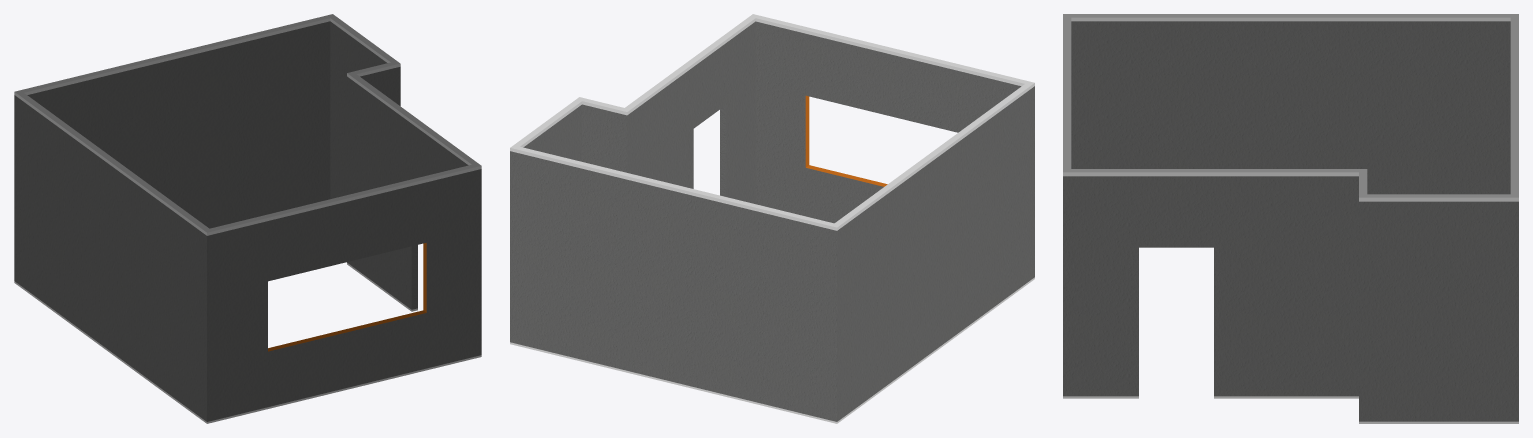
The model's file is Wall_246e77ab.obj.
The picture shows the model from 3 angles, left to right: view 1: azimuth 30°, elevation 25°; view 2: azimuth 150°, elevation 25°; view 3: azimuth 270°, elevation 25°; orthographic projection. The views are drawn at different scales.
Parts seen in each view (by area): view 1: Wall_246e77ab; view 2: Wall_246e77ab; view 3: Wall_246e77ab.
Boxes of the visible parts, left/top/right/bottom form: Wall_246e77ab: left=14, top=14, right=481, bottom=423; Wall_246e77ab: left=510, top=14, right=1034, bottom=423; Wall_246e77ab: left=1063, top=14, right=1518, bottom=423.
Bounding box in the file's own units: 5.22 × 2.99 × 5.47.
